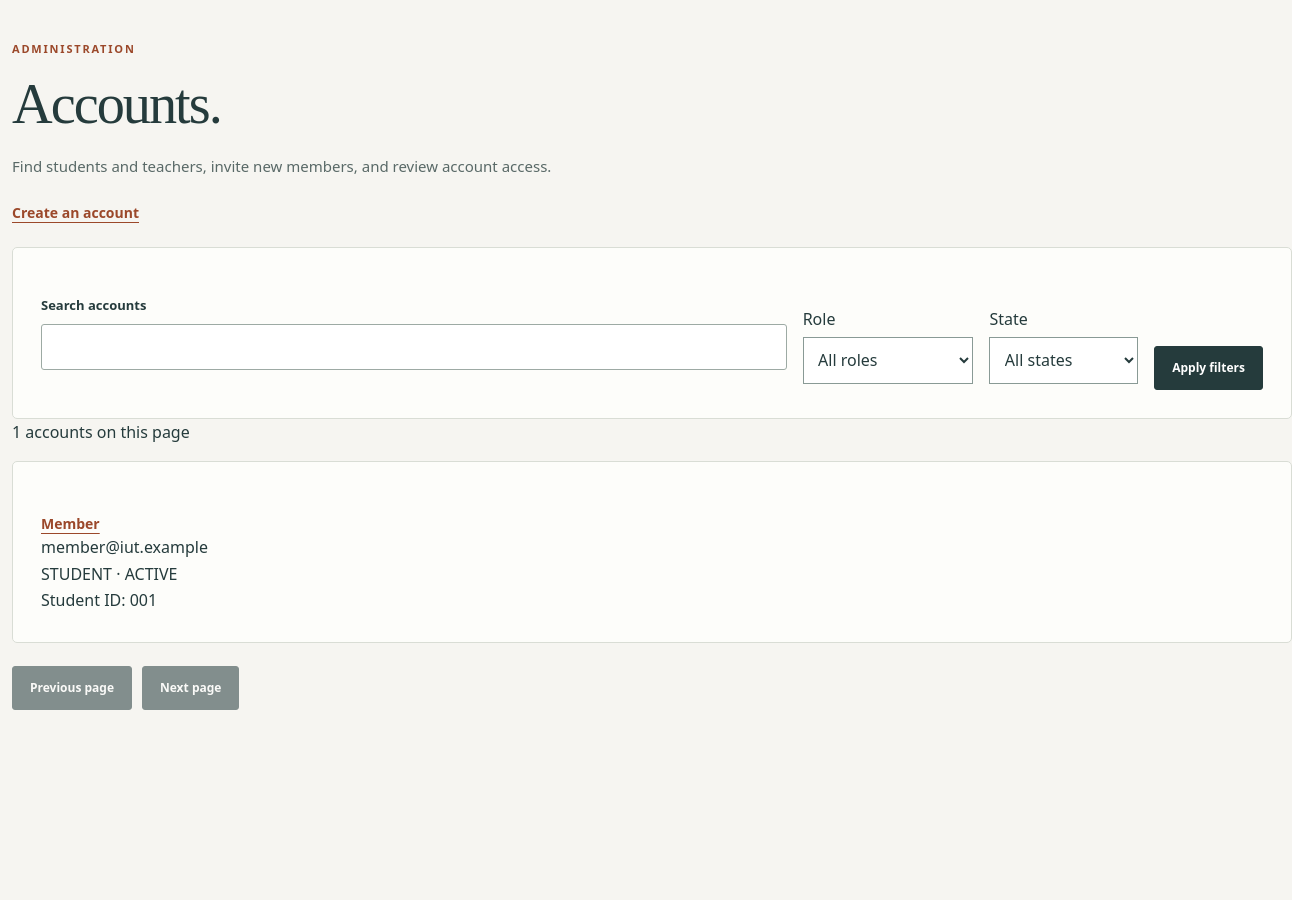
filters accounts through the API and supports empty results
Expected: the text "member@iut.example" is shown, x1=41 y1=536 x2=208 y2=558
Select "TEACHER" in the dropdown labelled "Role". click: x=888, y=360
box: x1=803 y1=337 x2=974 y2=384
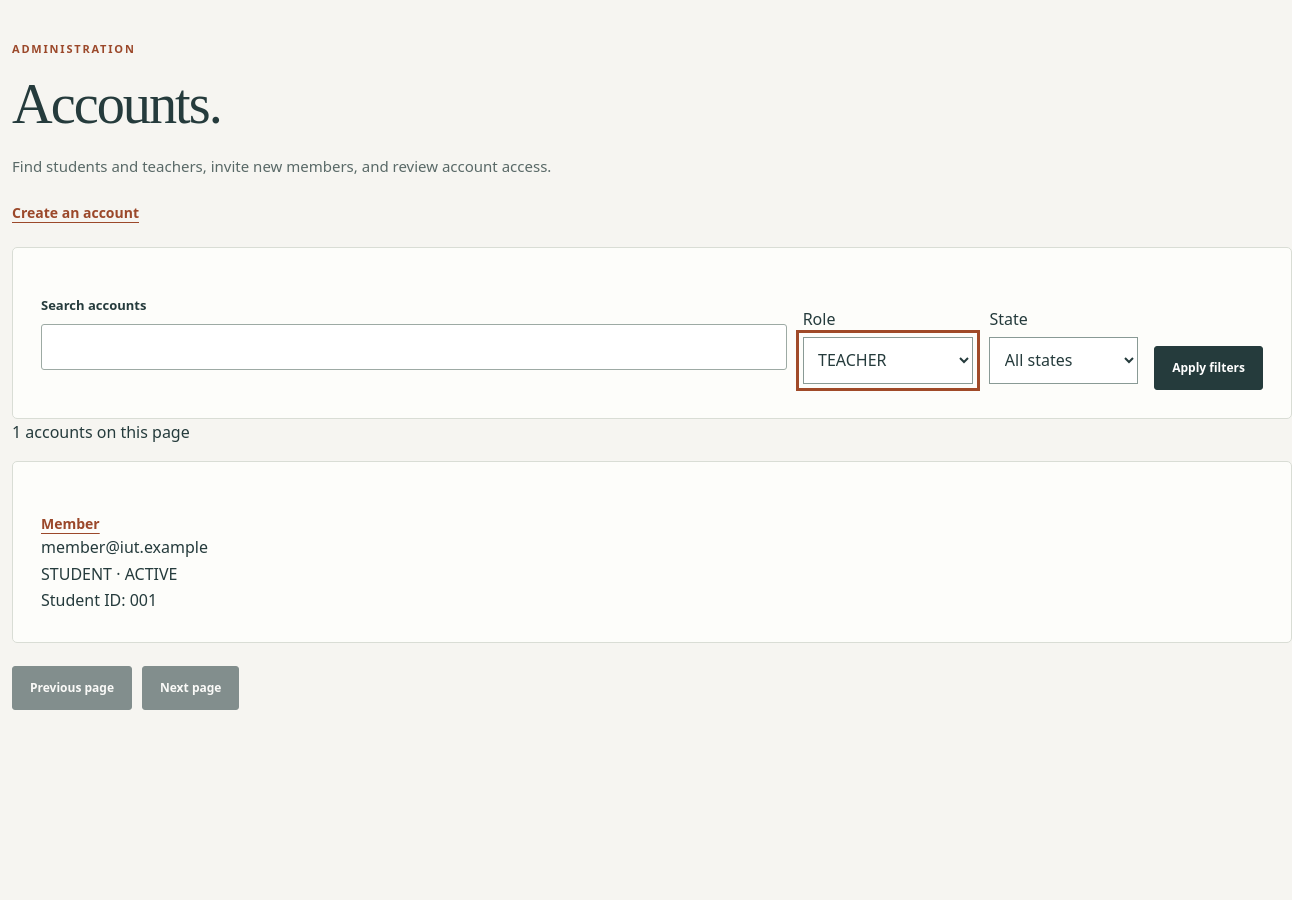
Click the button "Apply filters". click: x=1209, y=368
box: x1=1154 y1=346 x2=1263 y2=390
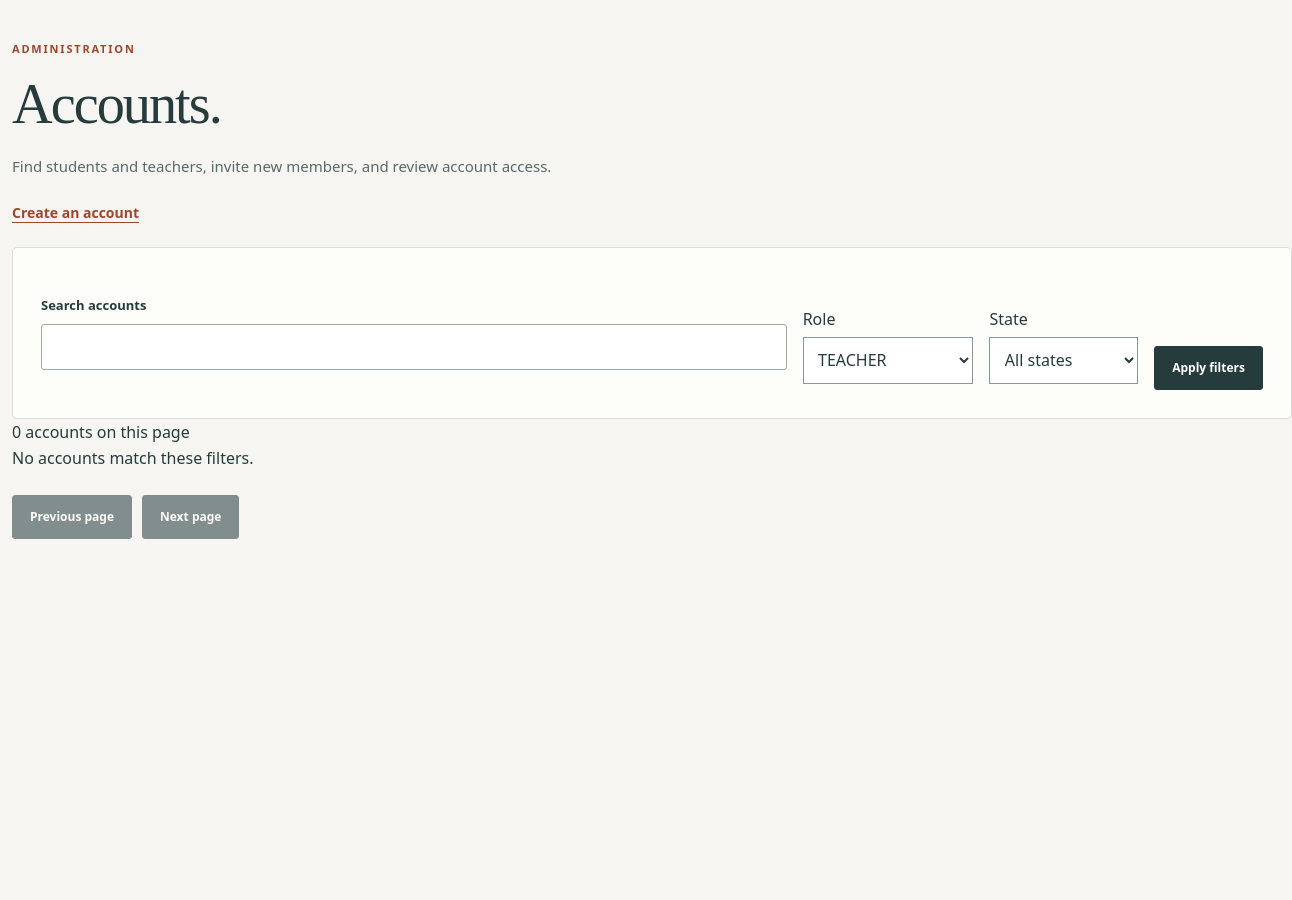
Expected: the text "No accounts match these filters." is shown, x1=12 y1=447 x2=254 y2=469
